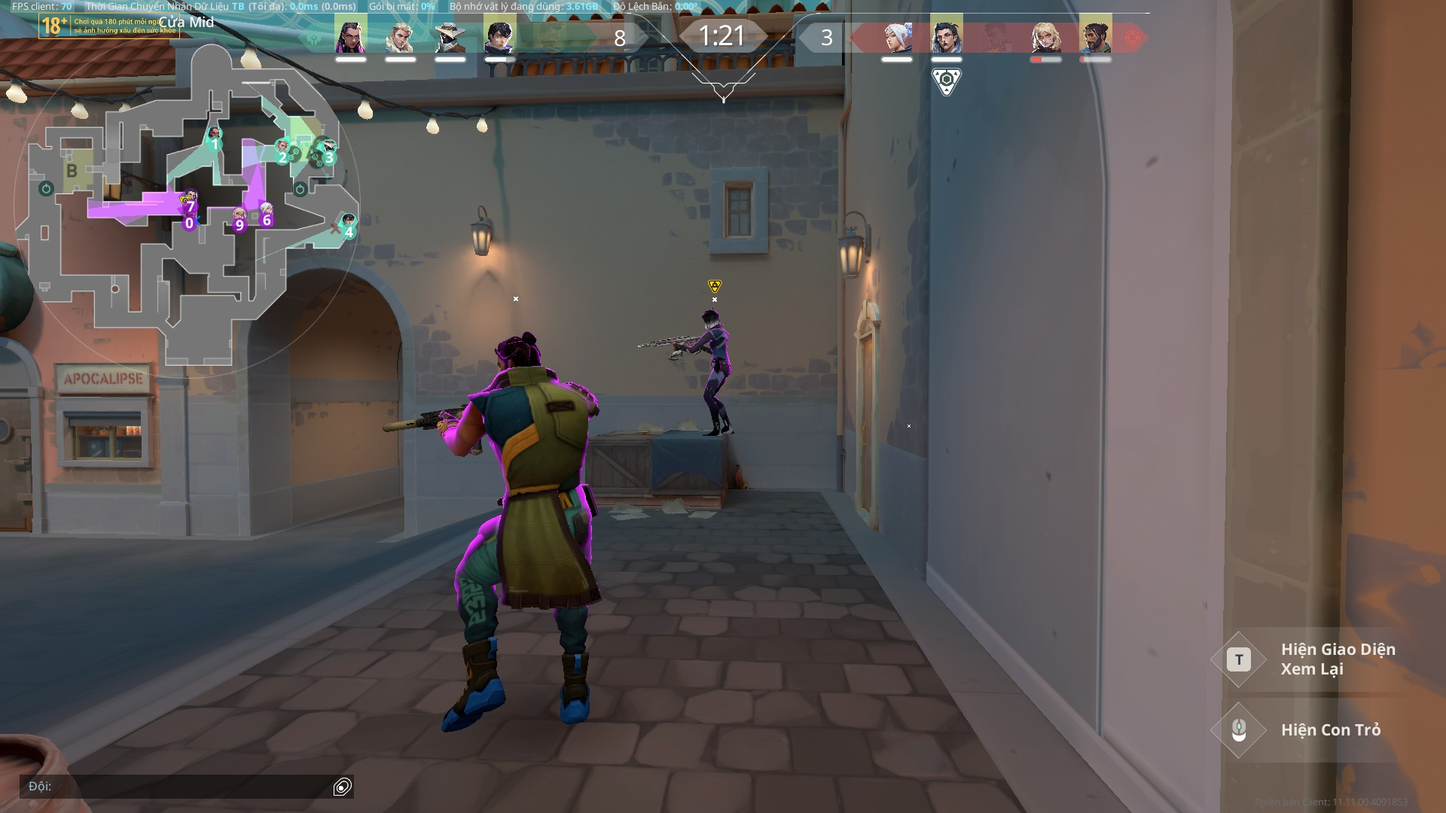body: (477, 370, 602, 483), (704, 323, 734, 368)
head: (487, 333, 540, 375), (699, 307, 721, 327)
